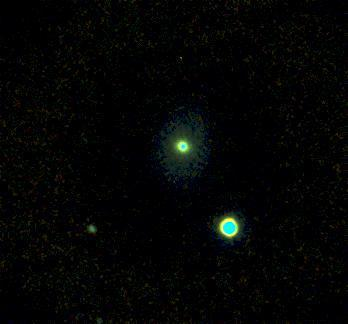star: (169, 44, 199, 74)
